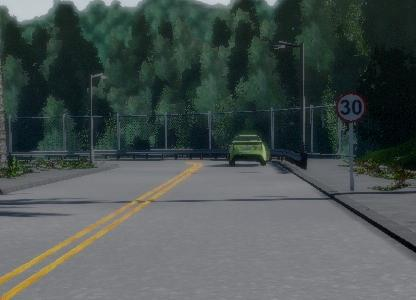Speed_30: (332, 87, 369, 125)
